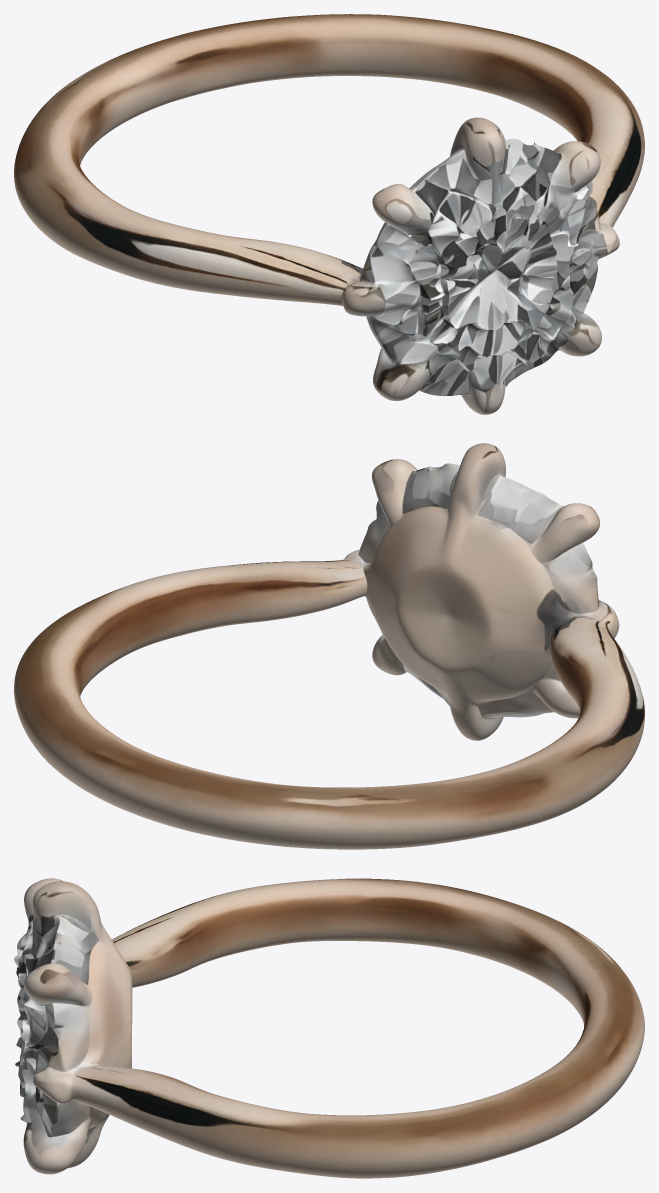
The model's file is ring-solitario.glb.
3 views of the same model, one above another, from view 1: azimuth 30°, elevation 25°; view 2: azimuth 150°, elevation 25°; view 3: azimuth 270°, elevation 25° (orthographic). The views are drawn at different scales.
Visible parts, largest first — view 1: model; view 2: model; view 3: model.
Boxes of the visible parts, x1,y1,x2,y2 form: model: (14,14,644,414); model: (14,443,644,849); model: (14,878,644,1178).
Bounding box in the file's own units: 1.9 × 0.939 × 1.89.
1 material, 1 textured.
